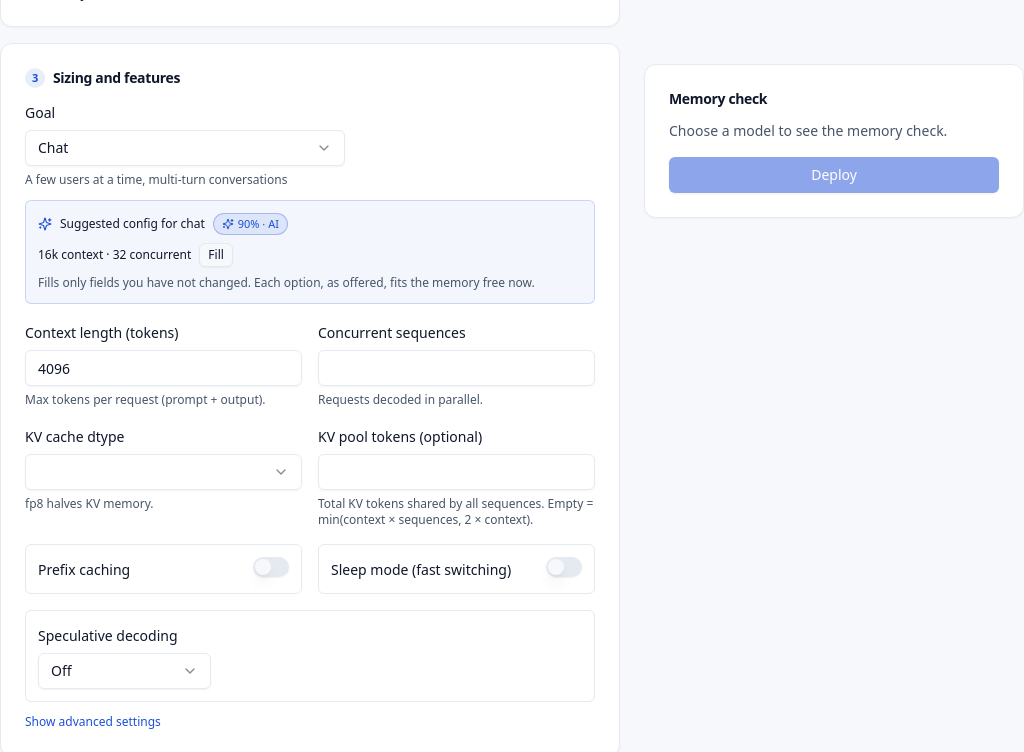
it: DeployWizard preview priority › config advice fills untouched fields only; a typed value is never overwritten
(page scrolled)
Expected: the text "Suggested config for chat" is shown, [60, 216, 205, 232]
Type "5" into the number field labelled "Concurrent sequences" at (456, 368), box [318, 350, 595, 386]
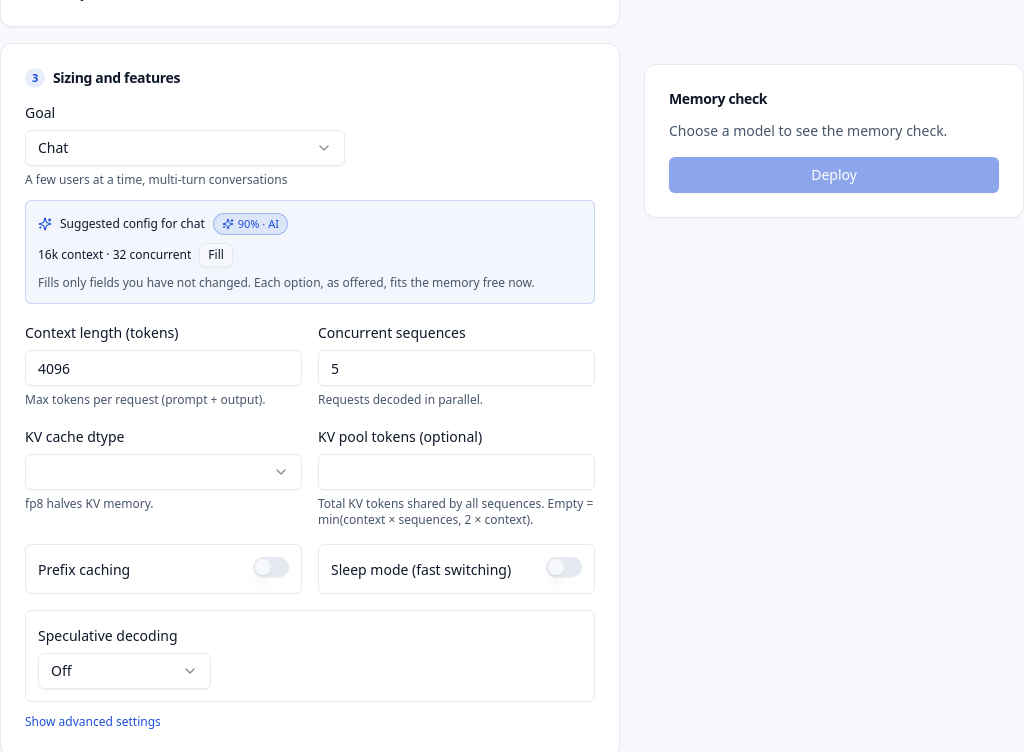
Click the button with aria-label "Fill untouched fields" at (216, 255), box [199, 243, 233, 267]
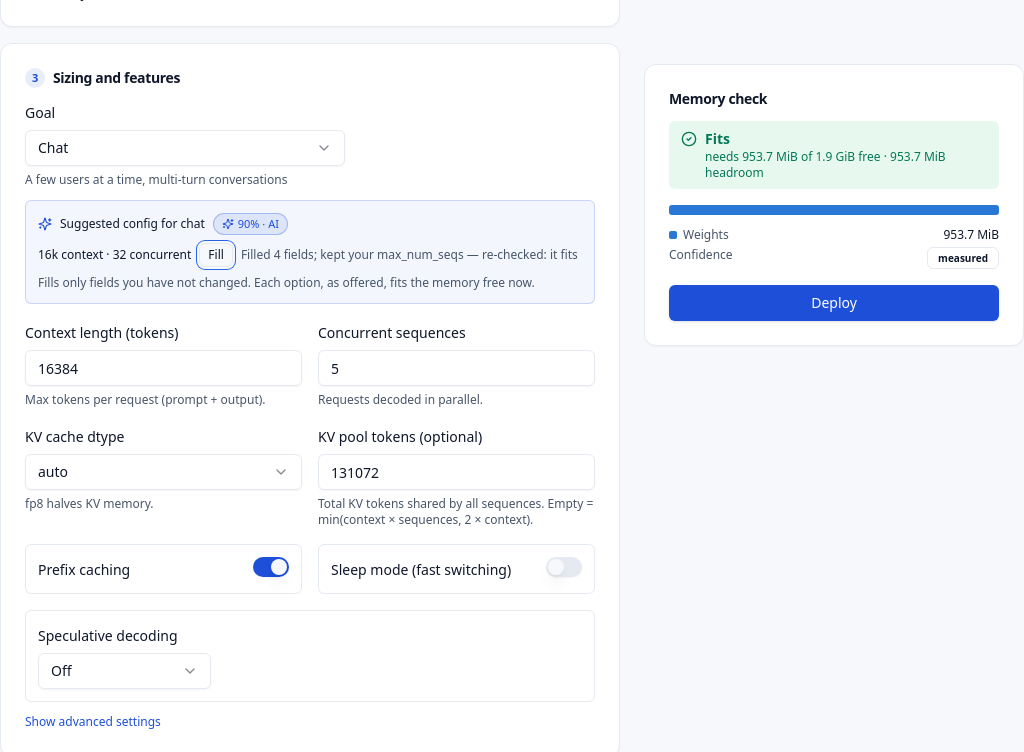
Expected: the number field labelled "Context length (tokens)" holds "16384", [25, 350, 302, 386]
